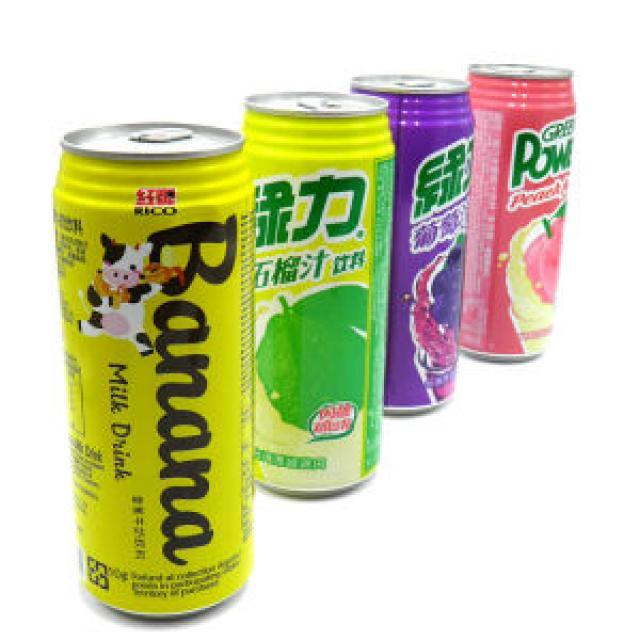can: (51, 113, 272, 632), (230, 70, 413, 524), (346, 40, 490, 429), (436, 54, 594, 371)
